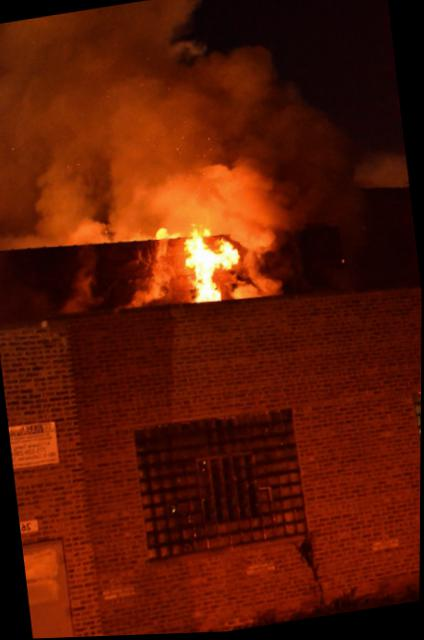fire: (155, 216, 252, 311)
